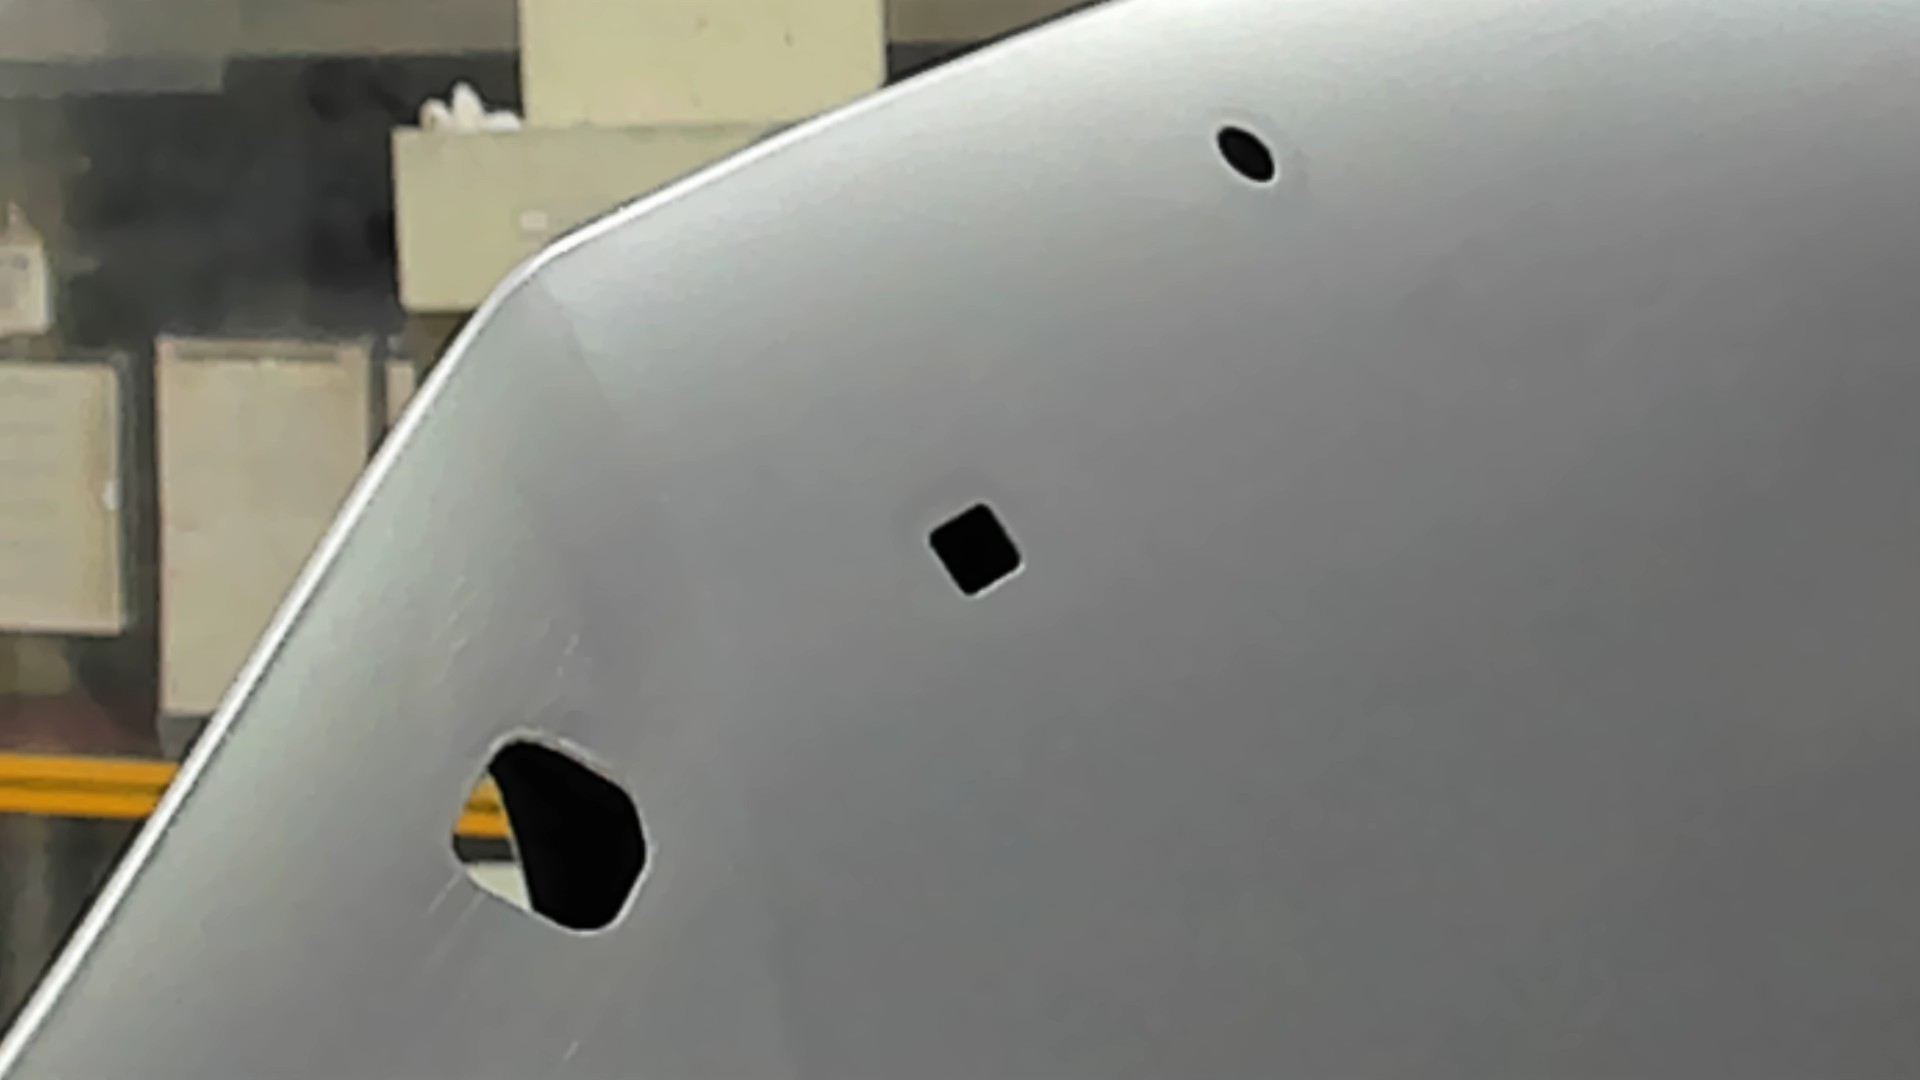capo: (1030, 189, 1920, 1080)
chico: (1211, 120, 1283, 193)
grande: (447, 727, 654, 942)
mediano: (920, 495, 1030, 608)
